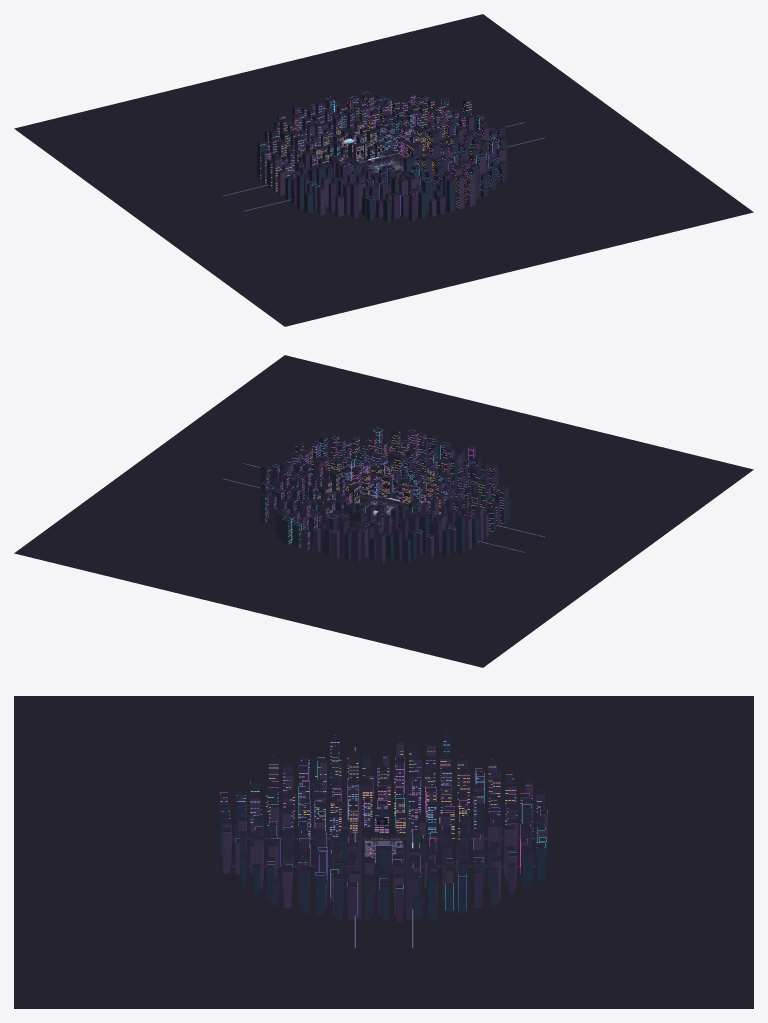
The model's file is neon.glb.
The picture shows the model from 3 angles, top to bottom: view 1: azimuth 30°, elevation 25°; view 2: azimuth 150°, elevation 25°; view 3: azimuth 270°, elevation 25°; orthographic projection. The views are drawn at different scales.
Parts seen in each view (by area): view 1: Visual; view 2: Visual; view 3: Visual.
Part boxes in pixels (<box>): Visual: <box>14,14,753,326</box>; Visual: <box>14,355,753,667</box>; Visual: <box>14,696,753,1008</box>.
Bounding box in the file's own units: 1400 × 113 × 1400.
